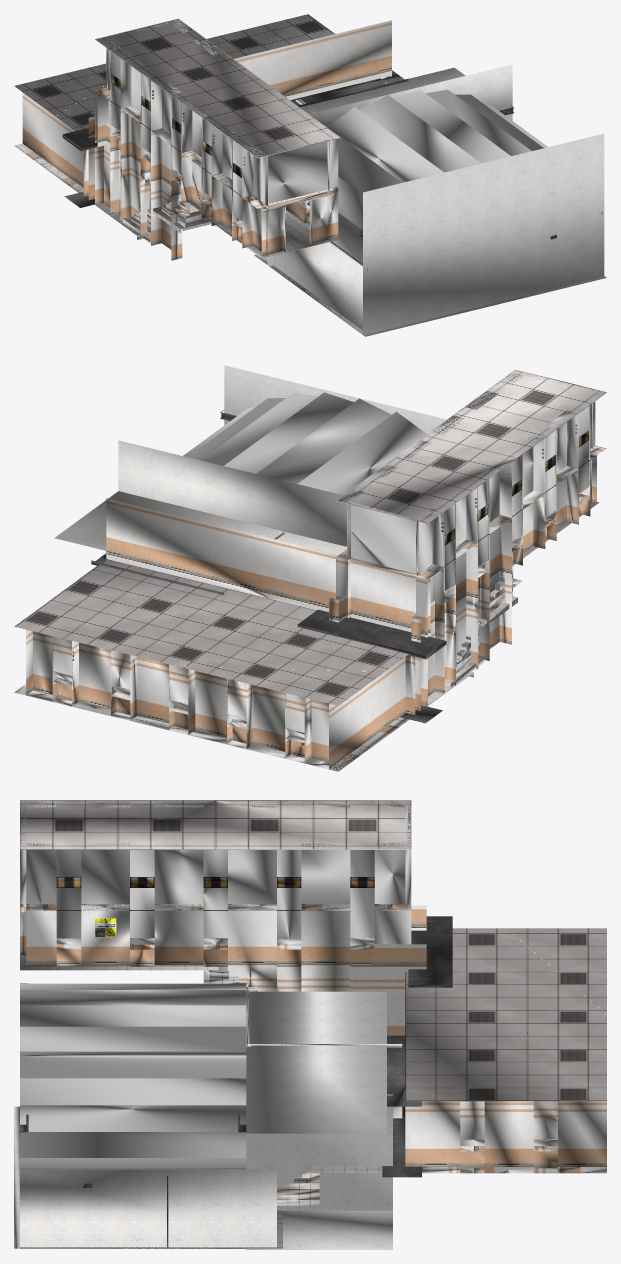
The model's file is room079_opt.obj.
The picture shows the model from 3 angles, top to bottom: view 1: azimuth 30°, elevation 25°; view 2: azimuth 150°, elevation 25°; view 3: azimuth 270°, elevation 25°; orthographic projection. The views are drawn at different scales.
Size of the model in its own units: 133 by 70.65 by 155.
